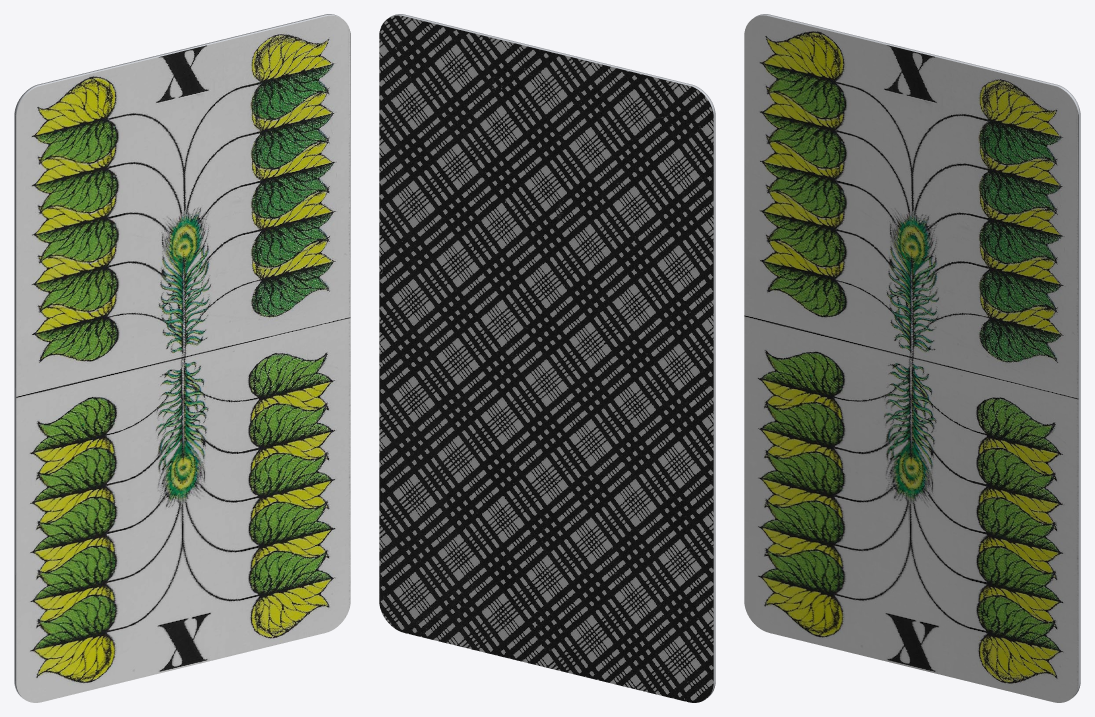
The model's file is list10.glb.
3 renders of one model, left to right at view 1: azimuth 30°, elevation 25°; view 2: azimuth 150°, elevation 25°; view 3: azimuth 330°, elevation 25°, orthographic.
Parts seen in each view (by area): view 1: Curve; view 2: Curve; view 3: Curve.
Part boxes in pixels (x1,y1,x2,y2): Curve: (14, 14, 350, 702); Curve: (379, 14, 715, 702); Curve: (744, 14, 1080, 702).
Size of the model in its own units: 3.93 by 6.93 by 0.0411.
Materials: 3 (2 with a texture image).
